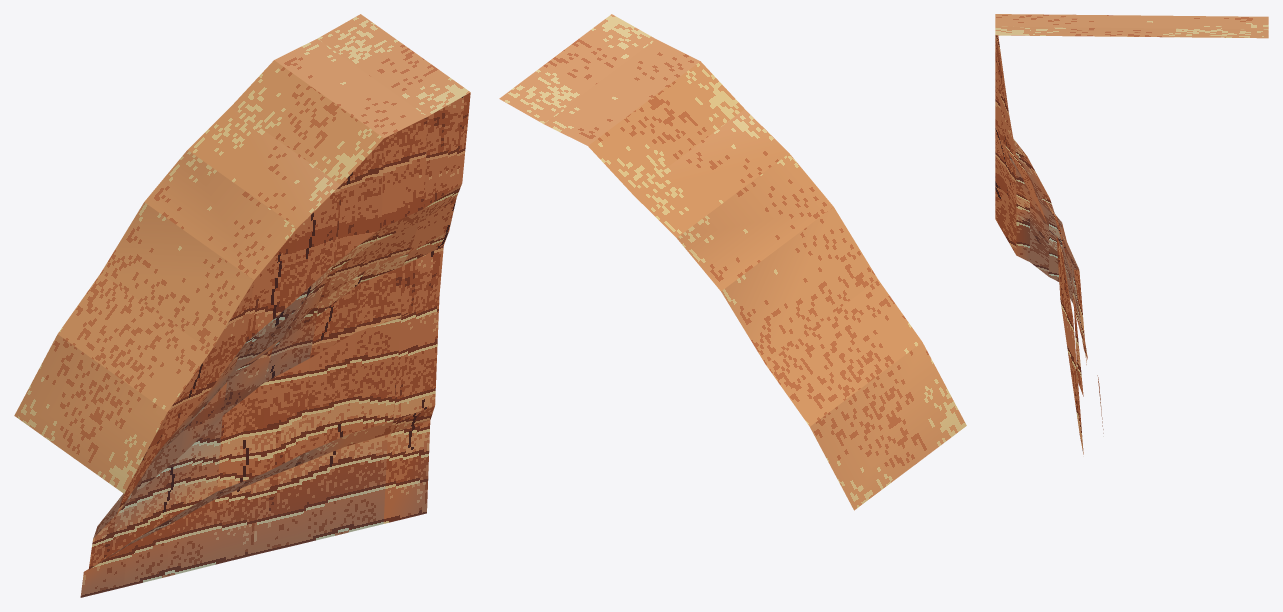
The model's file is wland.canyon_wall__end_w.glb.
3 renders of one model, left to right at view 1: azimuth 30°, elevation 25°; view 2: azimuth 150°, elevation 25°; view 3: azimuth 270°, elevation 25°, orthographic. The views are drawn at different scales.
Parts seen in each view (by area): view 1: kit_shell_face, kit_shell_cap; view 2: kit_shell_cap; view 3: kit_shell_face, kit_shell_cap.
Part boxes in pixels (x1=…): kit_shell_face: x1=80, y1=92, x2=470, y2=597; kit_shell_cap: x1=14, y1=14, x2=470, y2=493; kit_shell_cap: x1=499, y1=14, x2=966, y2=510; kit_shell_face: x1=995, y1=35, x2=1103, y2=454; kit_shell_cap: x1=995, y1=14, x2=1268, y2=38.
Bounding box in the file's own units: 8 × 10 × 4.4.
Materials: 3 (3 with a texture image).
